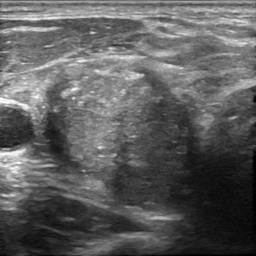mass: (46, 64, 194, 197)
